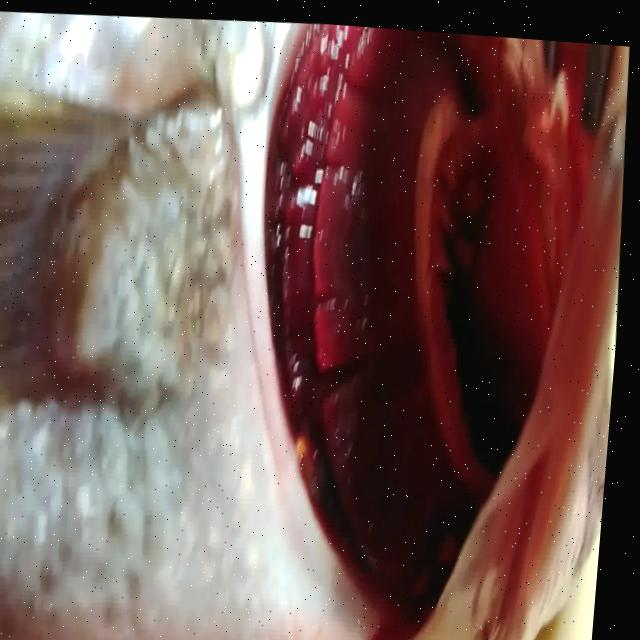Fresh: (244, 16, 564, 640)
